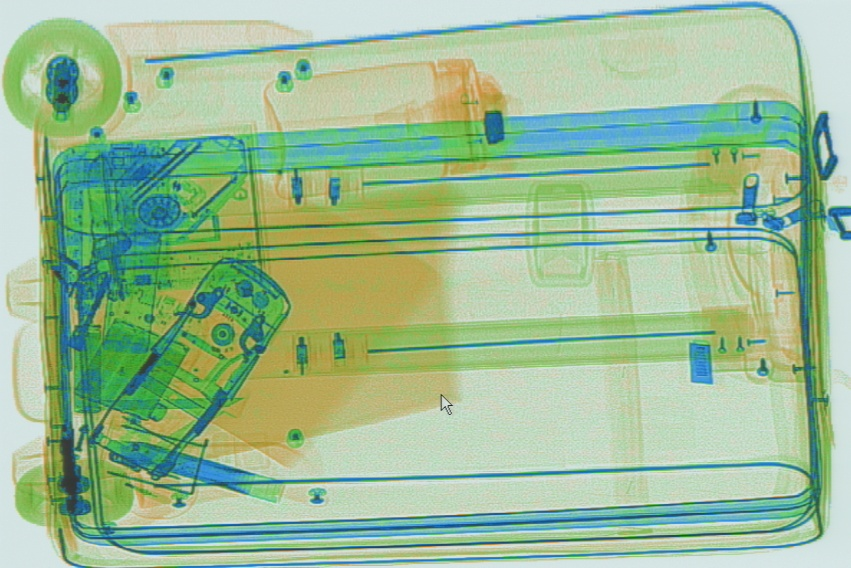powerbank: (68, 286, 204, 418)
